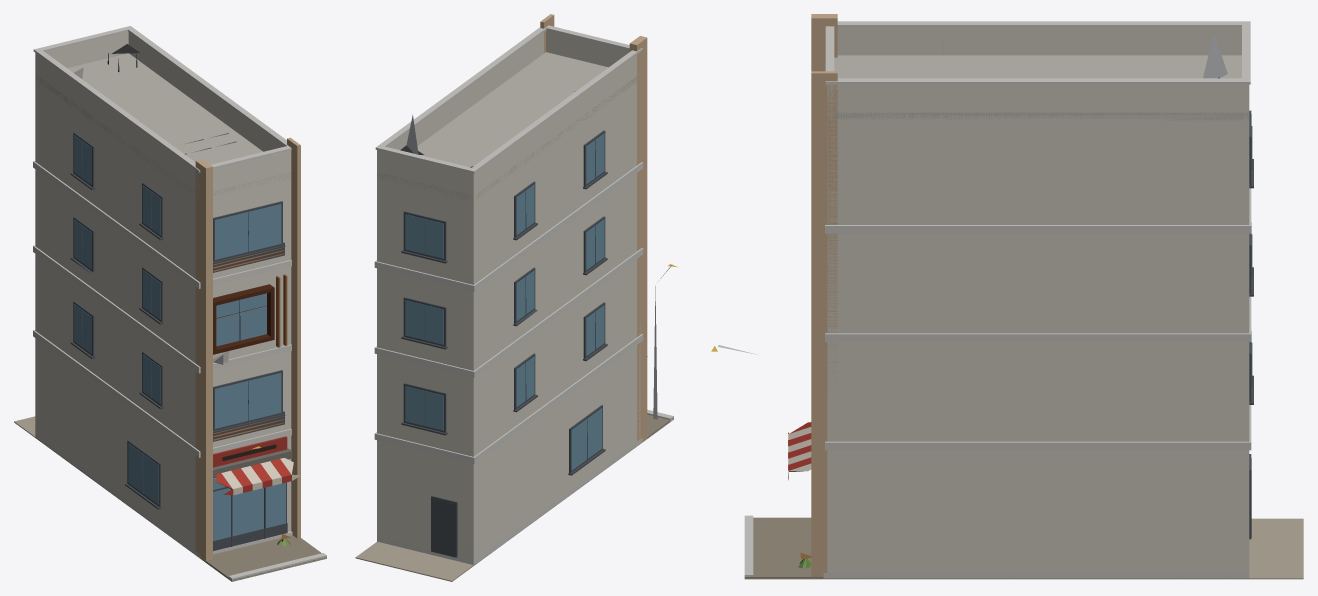
The model's file is bay2_left.glb.
3 renders of one model, left to right at view 1: azimuth 30°, elevation 25°; view 2: azimuth 150°, elevation 25°; view 3: azimuth 270°, elevation 25°, orthographic. The views are drawn at different scales.
Visible parts, largest first — view 1: body; view 2: body; view 3: body.
Boxes of the visible parts, bbox=[...] form: body: bbox=[14, 26, 326, 581]; body: bbox=[355, 14, 673, 581]; body: bbox=[718, 14, 1303, 579].
Size of the model in its own units: 4.42 by 17.08 by 16.88.
